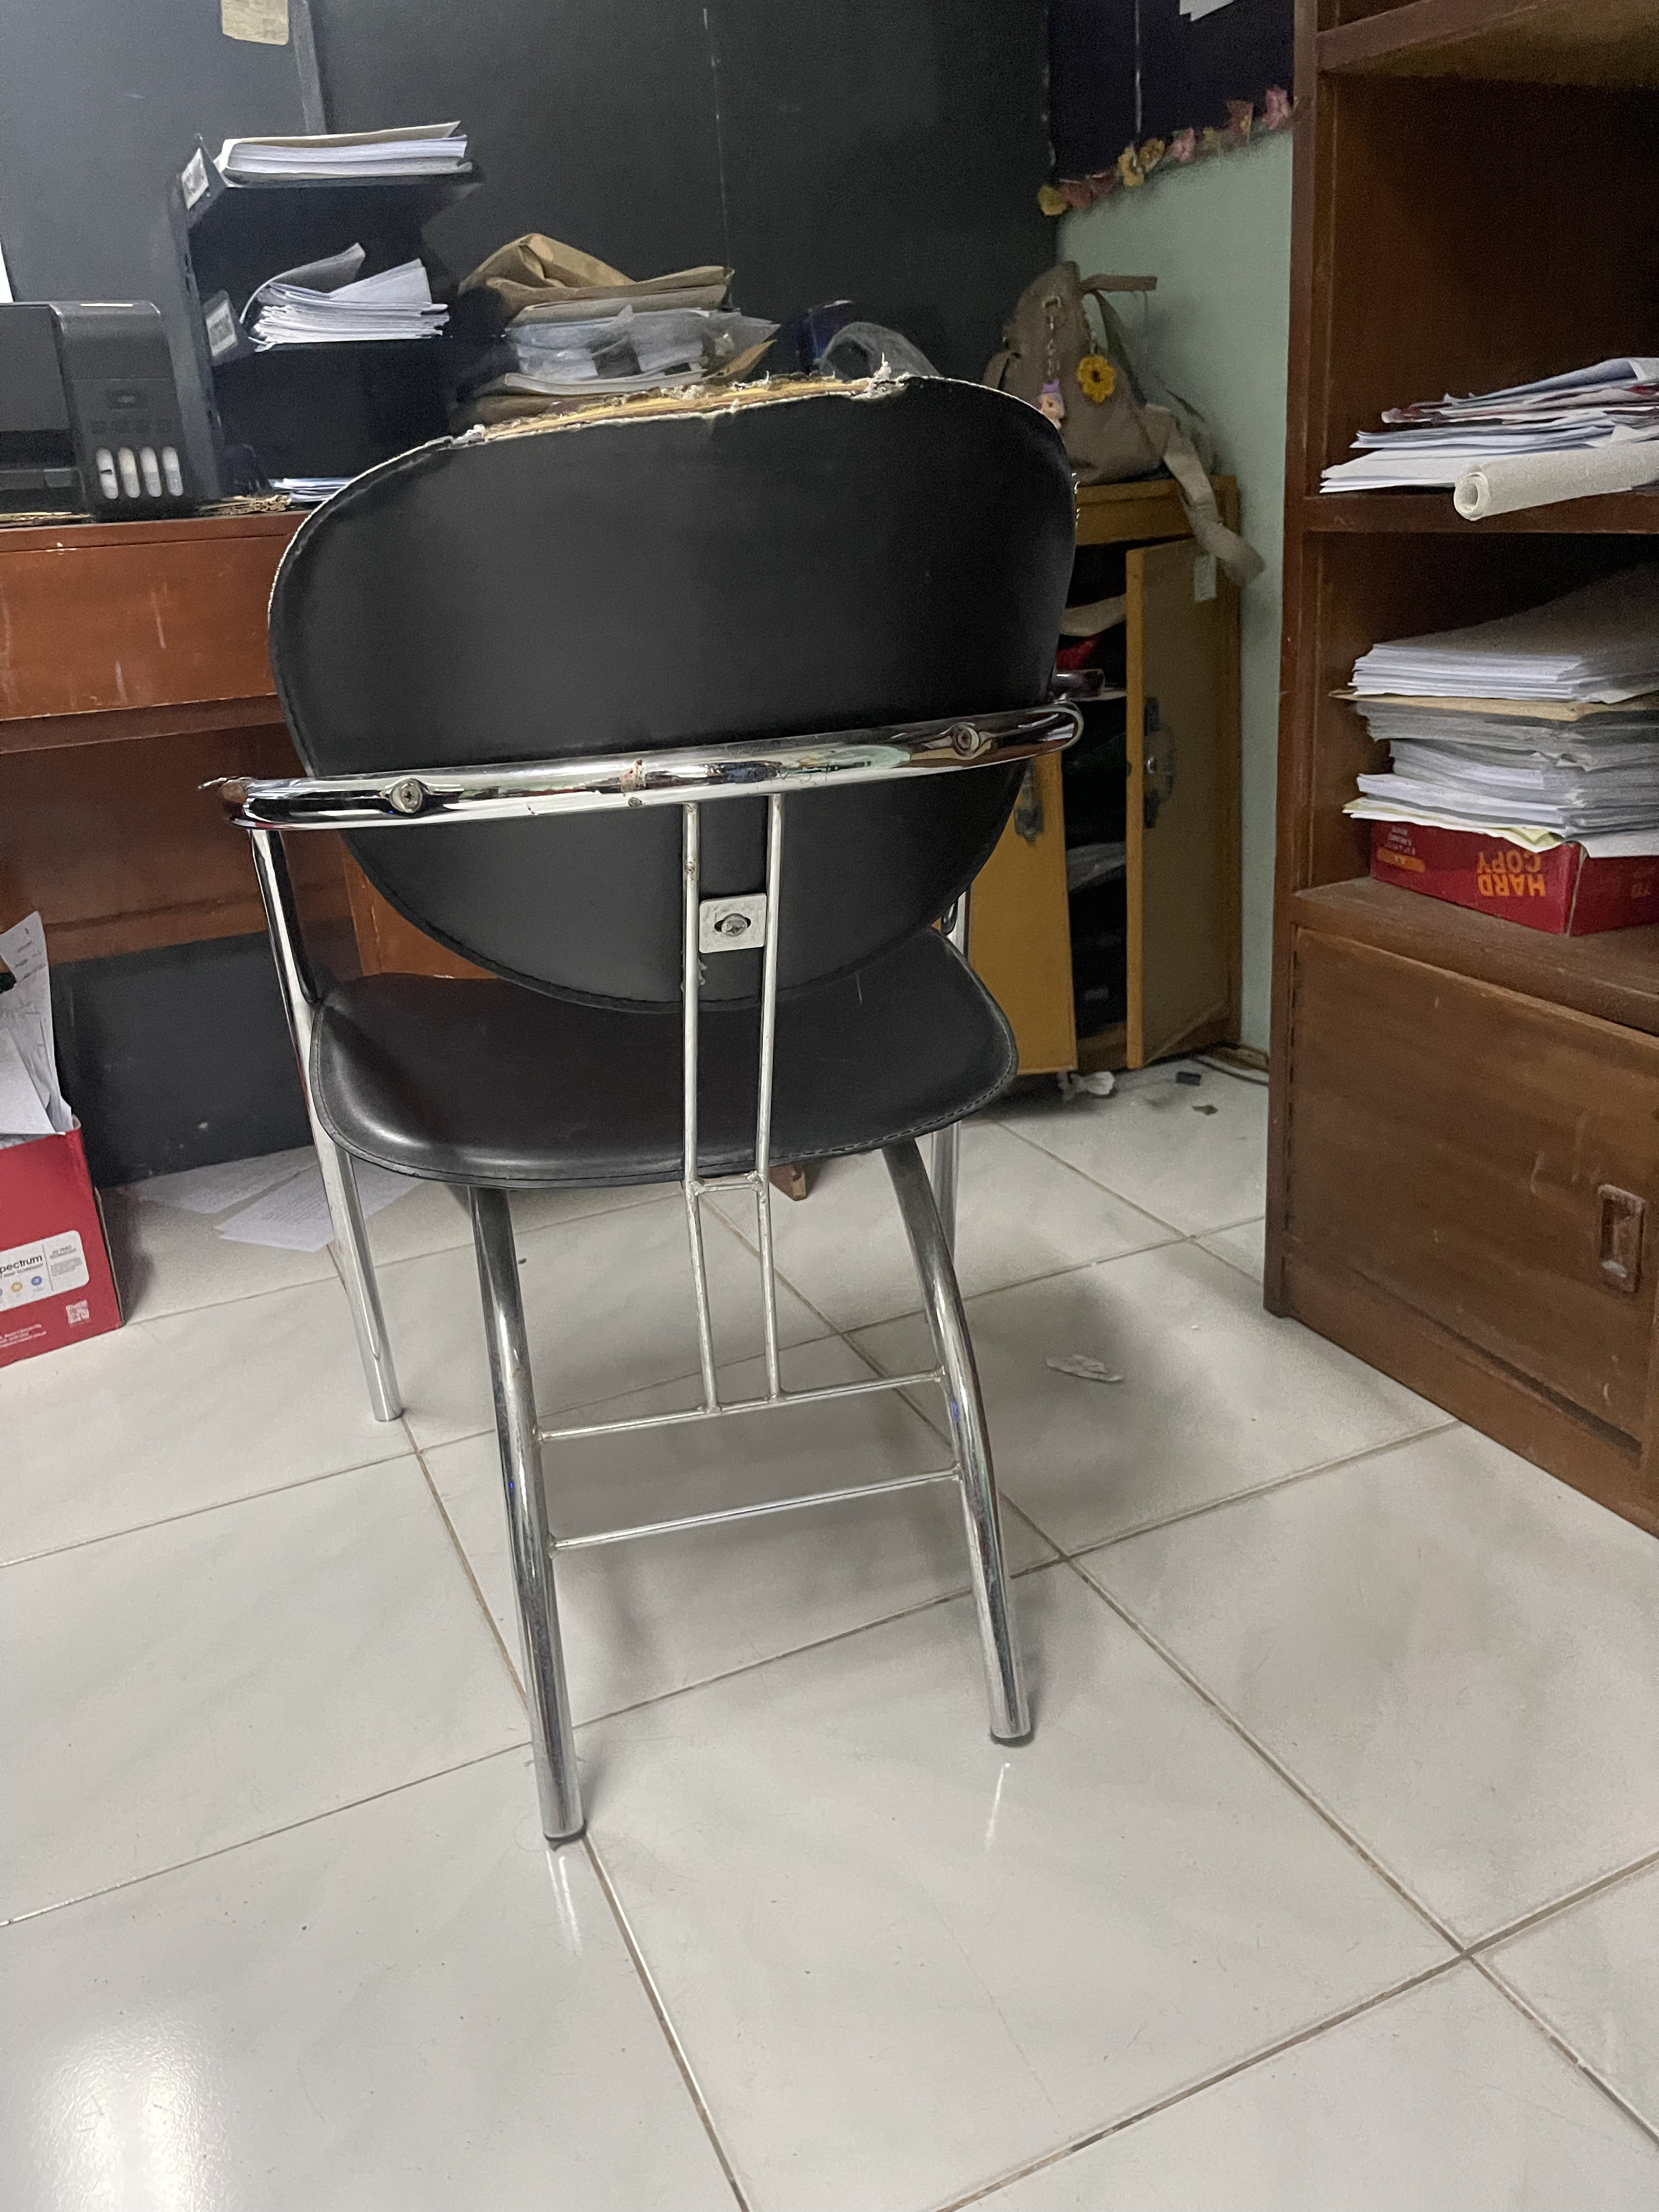chair1: (202, 381, 1103, 1848)
